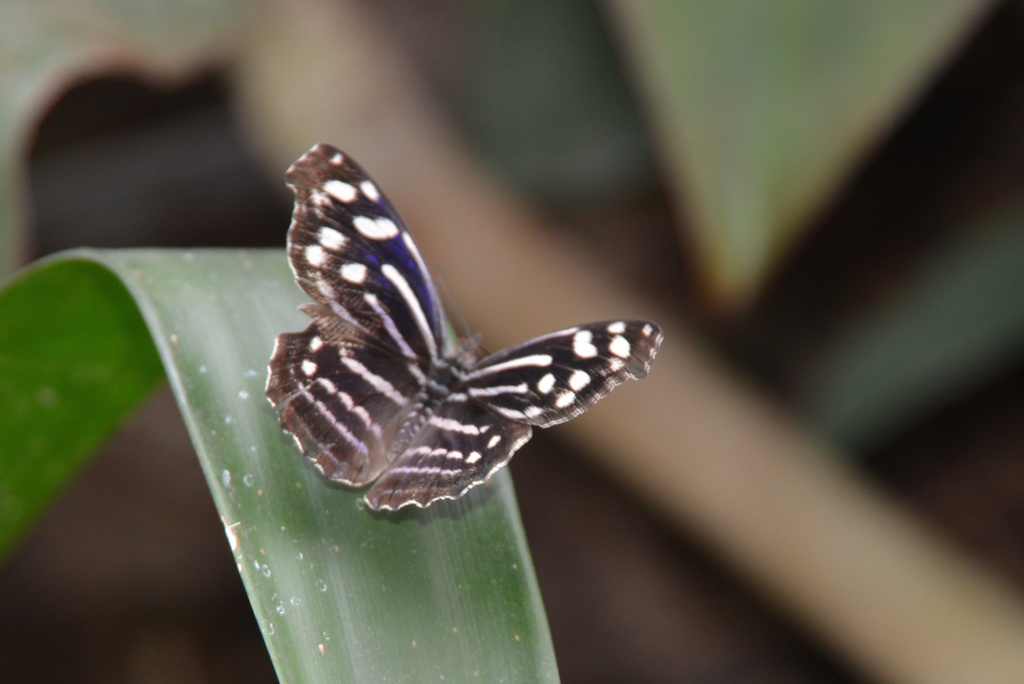Butterfly: (261, 135, 667, 510)
